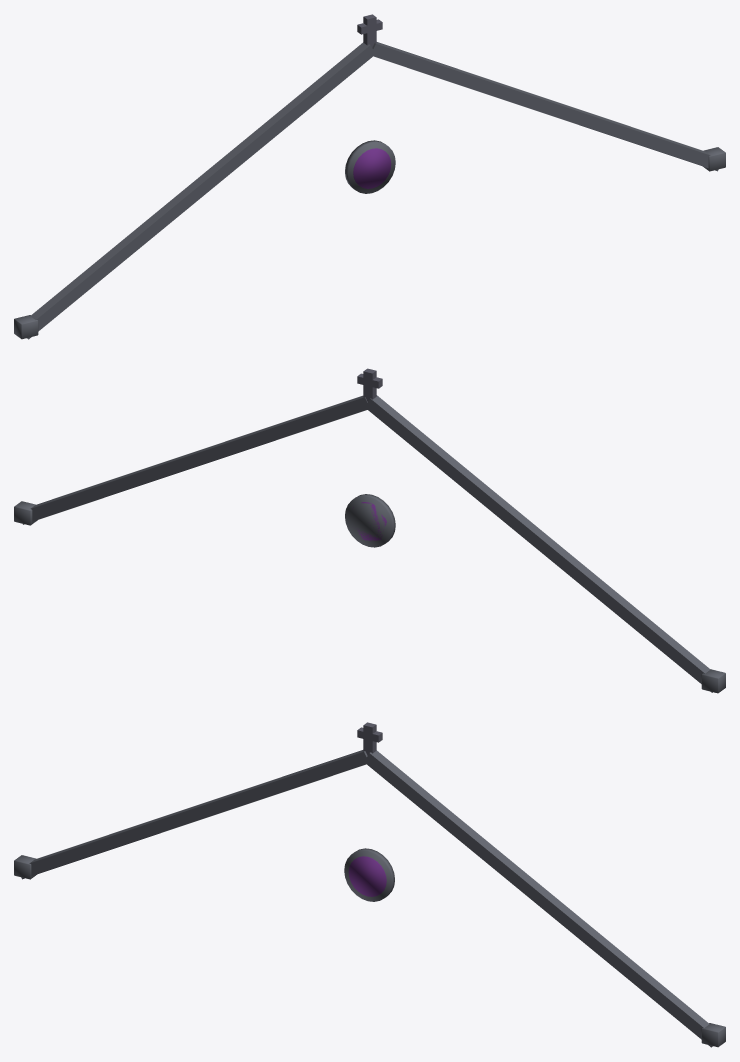
File: kit_church_gable_w12.glb
The picture shows the model from 3 angles, top to bottom: view 1: azimuth 30°, elevation 25°; view 2: azimuth 150°, elevation 25°; view 3: azimuth 330°, elevation 25°; orthographic projection.
Parts seen in each view (by area): view 1: kit_church_gable_w12; view 2: kit_church_gable_w12; view 3: kit_church_gable_w12.
Boxes of the visible parts, x1,y1,x2,y2 form: kit_church_gable_w12: (14,14,725,339); kit_church_gable_w12: (14,368,725,693); kit_church_gable_w12: (14,722,725,1047).
Bounding box in the file's own units: 12.42 × 3.98 × 0.24.
